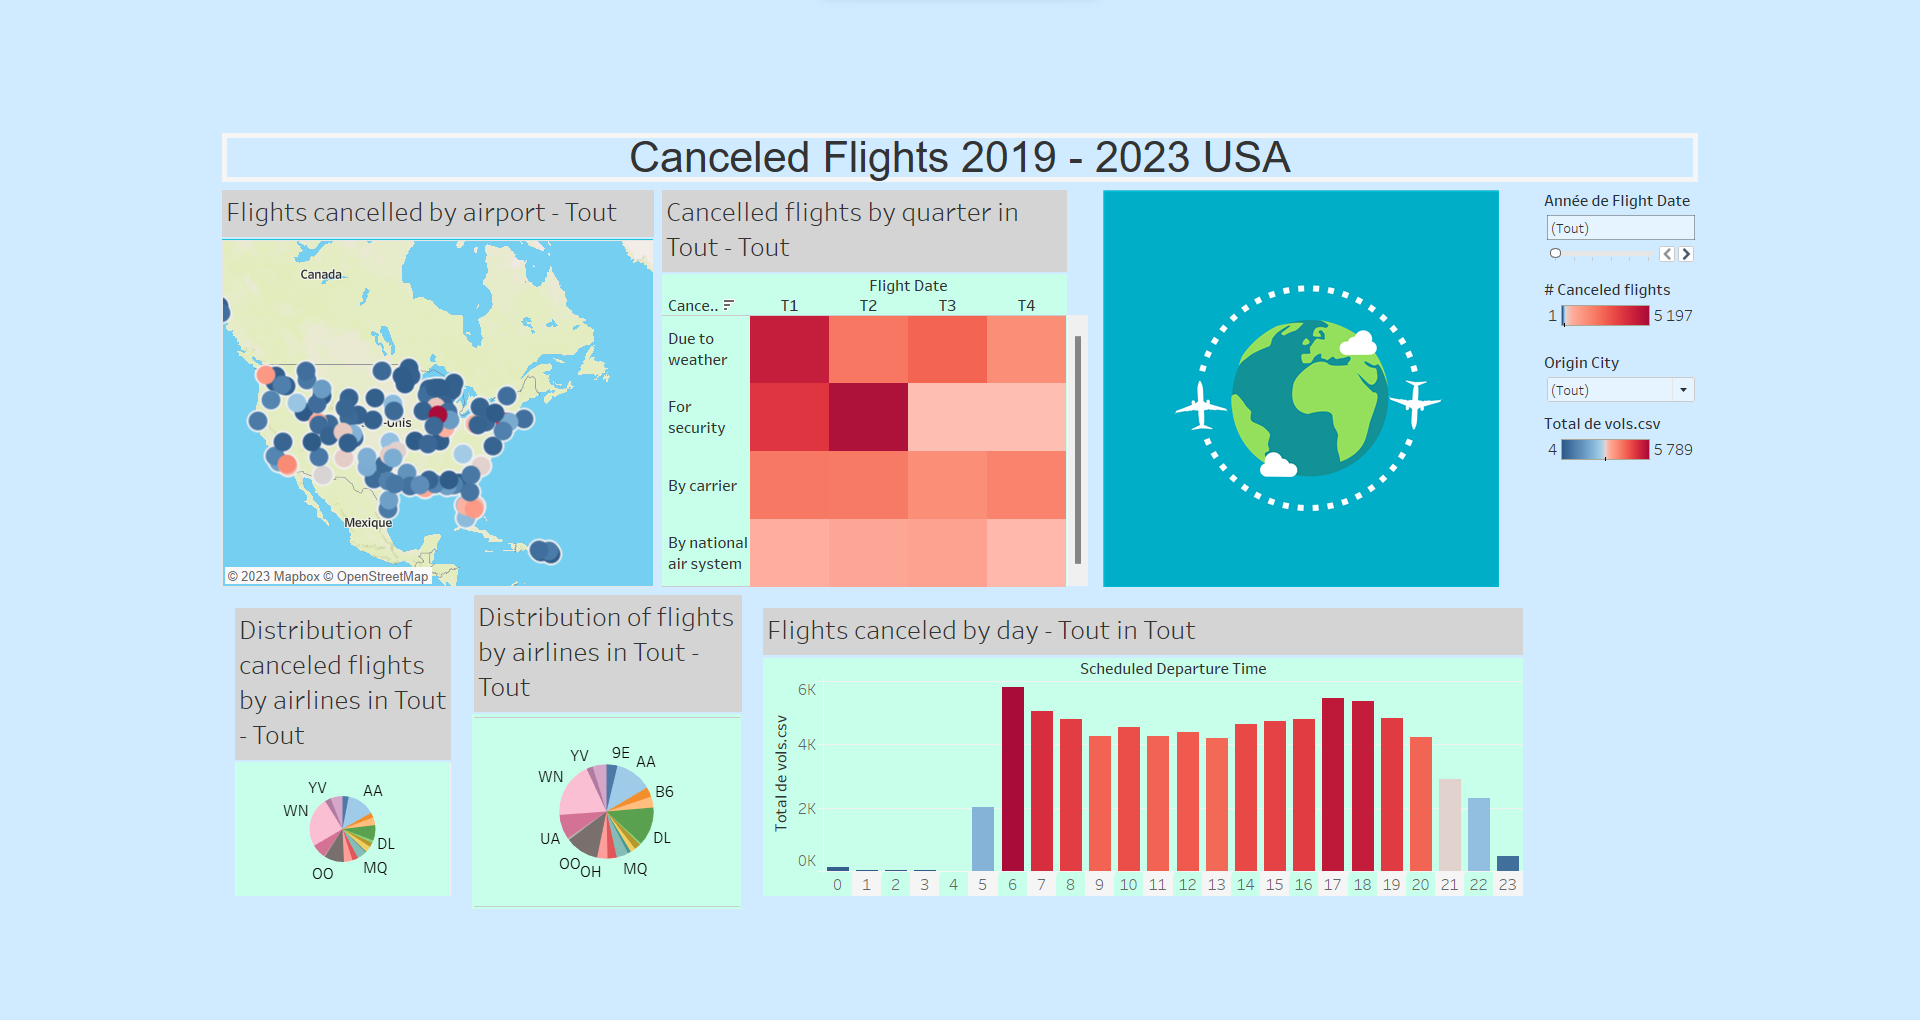

The page's visual inventory and layout, read from the dashboard file:
{"tool":"tableau","page":{"name":"Tableau de bord 1","canvas":[1500,800],"ordinal":0},"visuals":[{"type":"title","box":[8,8,1484,57]},{"type":"worksheet","title":"map cancel","mark":"Automatic","box":[8,65,440.5,405.2]},{"type":"worksheet","title":"Feuille 4","mark":"Automatic","rows":["cancellation_code"],"cols":["flight_date"],"box":[448.5,65,440.5,405.2]},{"type":"image","param":"C:/Users/ilana/OneDrive/Bureau/projet tab/airline-6763903_1280.png","box":[888.9,65,441.1,405.2]},{"type":"filter","title":"map cancel","param":"[federated.0ry08tp0iokk6n10wilm30p9jspj].[yr:flight_date:ok]","box":[1330,65,162,89]},{"type":"legend","title":"map cancel","param":"[federated.0ry08tp0iokk6n10wilm30p9jspj].[__tableau_internal_object_id__].[cnt:v","box":[1330,154,162,73]},{"type":"filter","title":"barres","param":"[federated.0ry08tp0iokk6n10wilm30p9jspj].[none:origin_city:nk]","box":[1330,227,162,61]},{"type":"legend","title":"barres","param":"[federated.0ry08tp0iokk6n10wilm30p9jspj].[__tableau_internal_object_id__].[cnt:v","box":[1330,288,162,73]},{"type":"worksheet","title":"Feuille 3 (2)","mark":"Pie","box":[8,470.2,250,321.8]},{"type":"worksheet","title":"Feuille 3","mark":"Pie","box":[258,470.2,278,321.8]},{"type":"worksheet","title":"barres","mark":"Bar","rows":["vols.csv_ED571202EE2D4E33B815CB4616031E72"],"cols":["scheduled_departure_time"],"box":[536,470.2,794,321.8]}]}

Visuals, with their boxes in screenshot pixels (x1, y1, x2, y2), scaled from the page's 1500x800 canvas onto the 1920x1020 screenshot:
title: [left=10, top=10, right=1910, bottom=83]
"map cancel" worksheet: [left=10, top=83, right=574, bottom=600]
"Feuille 4" worksheet: [left=574, top=83, right=1138, bottom=600]
image: [left=1138, top=83, right=1702, bottom=600]
"map cancel" filter: [left=1702, top=83, right=1910, bottom=196]
"map cancel" legend: [left=1702, top=196, right=1910, bottom=289]
"barres" filter: [left=1702, top=289, right=1910, bottom=367]
"barres" legend: [left=1702, top=367, right=1910, bottom=460]
"Feuille 3 (2)" worksheet (Pie marks): [left=10, top=600, right=330, bottom=1010]
"Feuille 3" worksheet (Pie marks): [left=330, top=600, right=686, bottom=1010]
"barres" worksheet (Bar marks): [left=686, top=600, right=1702, bottom=1010]
